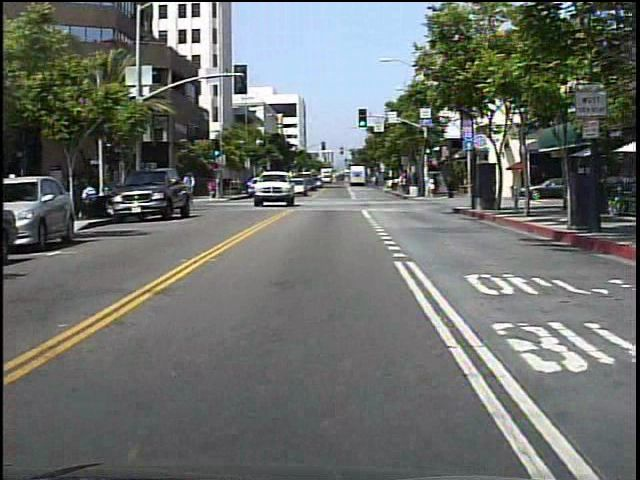person: (180, 170, 201, 203), (445, 171, 460, 204), (426, 177, 439, 200), (209, 176, 219, 200)
